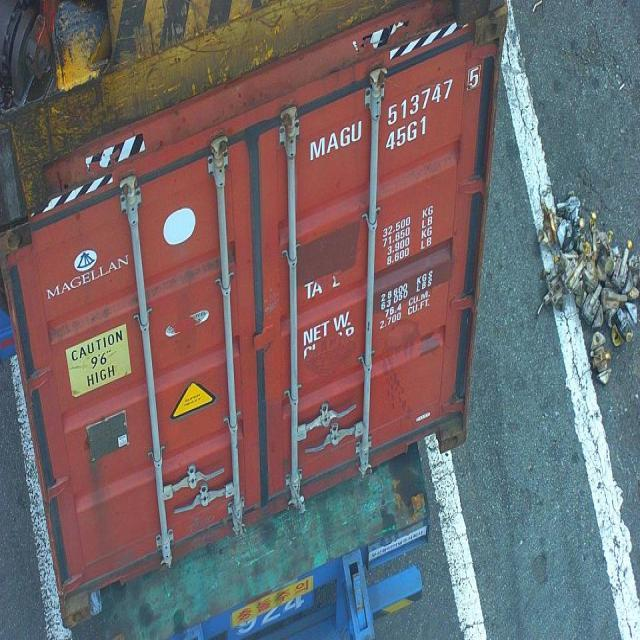ISO: (384, 114, 430, 154)
container_number: (304, 62, 484, 162)
